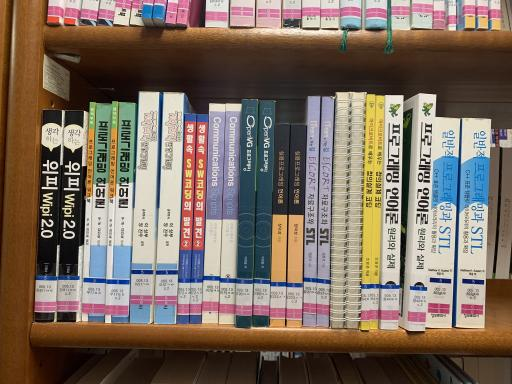book-spine: (425, 117, 461, 328), (456, 119, 492, 329), (129, 91, 161, 324), (105, 101, 135, 323), (408, 94, 436, 331), (156, 92, 184, 324), (82, 102, 111, 322), (35, 109, 63, 321), (57, 110, 84, 321), (380, 95, 404, 330), (252, 100, 276, 327), (202, 103, 226, 324), (235, 99, 258, 328), (219, 103, 242, 325), (316, 97, 336, 327), (286, 124, 307, 327), (176, 114, 196, 324), (303, 97, 321, 327), (270, 124, 290, 328), (190, 113, 208, 324), (361, 94, 375, 331), (370, 96, 384, 330)
